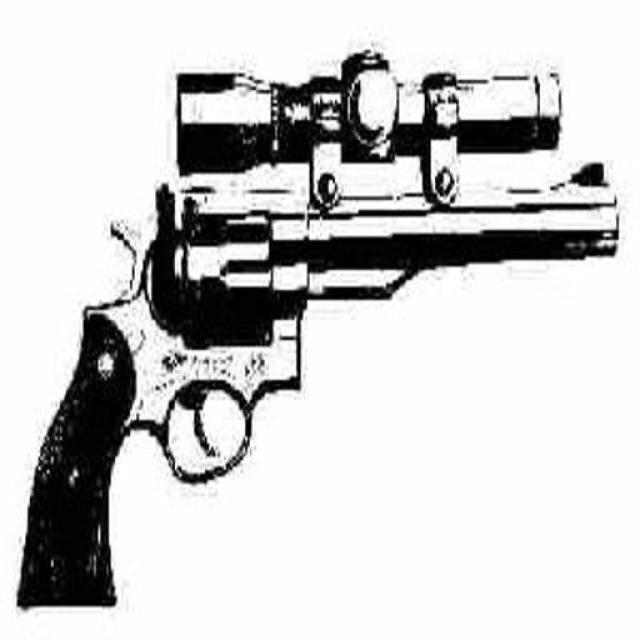pistol: (10, 150, 617, 606)
